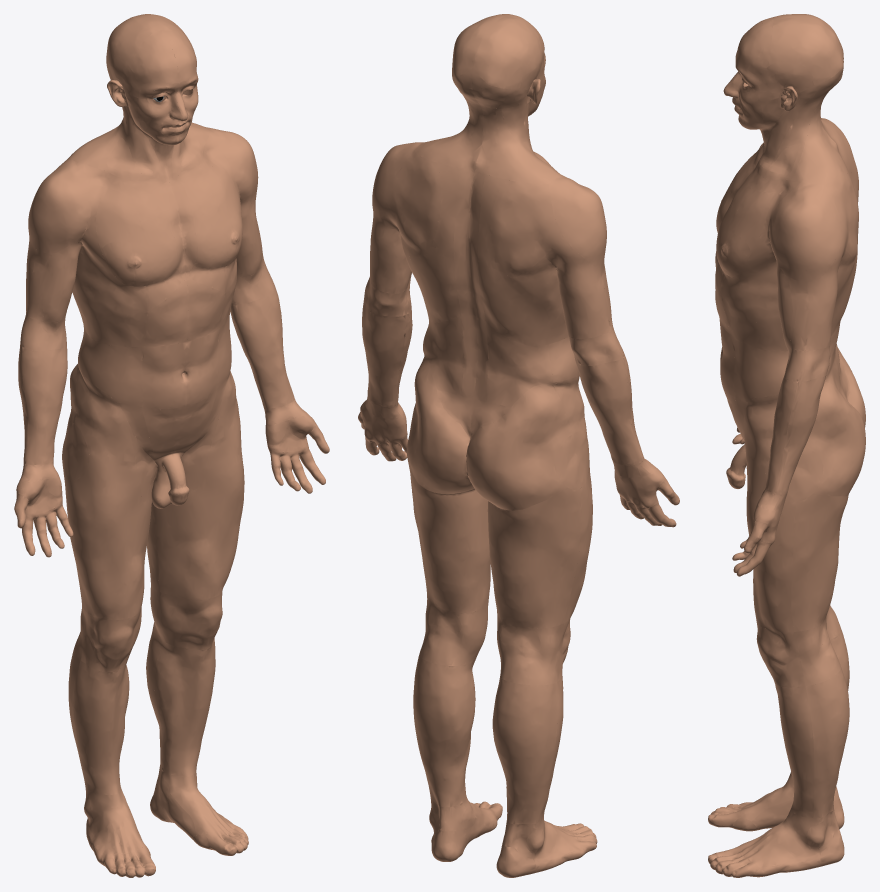
File: 7_Regions_of_human_body (1).glb
The picture shows the model from 3 angles, left to right: view 1: azimuth 30°, elevation 25°; view 2: azimuth 150°, elevation 25°; view 3: azimuth 270°, elevation 25°; orthographic projection. The views are drawn at different scales.
Parts seen in each view (by area): view 1: Anterior region of thigh.r, Anterior region of thigh.l, Anterior region of leg.l, Anterior region of leg.r, Pectoral region.r, Deltoid region.r, Anterior region of forearm.l, Anterior region of forearm.r, Lateral region of thorax.r, Pectoral region.l, Lateral region of abdomen.r, Anterior region of knee.l (+48 smaller); view 2: Posterior region of thigh.r, Gluteal region.r, Posterior region of thigh.l, Posterior region of leg.r, Posterior region of leg.l, Gluteal region.l, Scapular region.r, Infrascapular region.r, Scapular region.l, Posterior region of arm.r, Posterior region of forearm.r, Lumbar region.r (+36 smaller); view 3: Anterior region of thigh.l, Posterior region of thigh.l, Deltoid region.l, Gluteal region.l, Posterior region of leg.l, Lateral region of thorax.l, Anterior region of leg.l, Parietal region.l, Lateral region of abdomen.l, Pectoral region.l, Posterior region of arm.l, Posterior cervical region.l (+48 smaller).
Boxes of the visible parts, x1,y1,x2,y2 form: Anterior region of thigh.r: (67, 367, 156, 619); Anterior region of thigh.l: (153, 366, 244, 599); Anterior region of leg.l: (154, 639, 215, 776); Anterior region of leg.r: (73, 659, 129, 794); Pectoral region.r: (96, 187, 177, 286); Deltoid region.r: (28, 158, 91, 253); Anterior region of forearm.l: (231, 288, 294, 408); Anterior region of forearm.r: (22, 345, 67, 464); Lateral region of thorax.r: (72, 206, 149, 317); Pectoral region.l: (185, 161, 241, 268); Lateral region of abdomen.r: (78, 326, 143, 406); Anterior region of knee.l: (156, 592, 222, 649); Posterior region of thigh.r: (487, 487, 580, 628); Gluteal region.r: (466, 383, 572, 510); Posterior region of thigh.l: (408, 464, 490, 612); Posterior region of leg.r: (492, 676, 557, 824); Posterior region of leg.l: (413, 655, 472, 807); Gluteal region.l: (406, 352, 474, 494); Scapular region.r: (490, 180, 563, 277); Infrascapular region.r: (478, 263, 551, 345); Scapular region.l: (383, 151, 440, 256); Posterior region of arm.r: (545, 237, 610, 339); Posterior region of forearm.r: (575, 359, 642, 465); Lumbar region.r: (485, 321, 553, 407); Anterior region of thigh.l: (744, 394, 795, 632); Posterior region of thigh.l: (791, 493, 848, 631); Deltoid region.l: (769, 182, 841, 281); Gluteal region.l: (805, 382, 865, 496); Posterior region of leg.l: (805, 667, 849, 817); Lateral region of thorax.l: (720, 213, 852, 331); Anterior region of leg.l: (775, 684, 814, 817); Parietal region.l: (768, 18, 843, 84); Lateral region of abdomen.l: (731, 335, 788, 401); Pectoral region.l: (716, 181, 775, 276); Posterior region of arm.l: (805, 237, 846, 350); Posterior cervical region.l: (791, 96, 841, 184).
Bounding box in the file's own units: 0.6803 × 1.71 × 0.2951.
